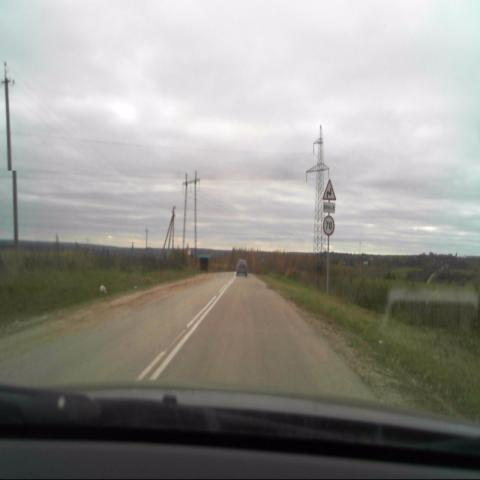1_12: (322, 179, 336, 200)
3_24: (322, 215, 335, 236)
8_2_1: (323, 202, 335, 214)
